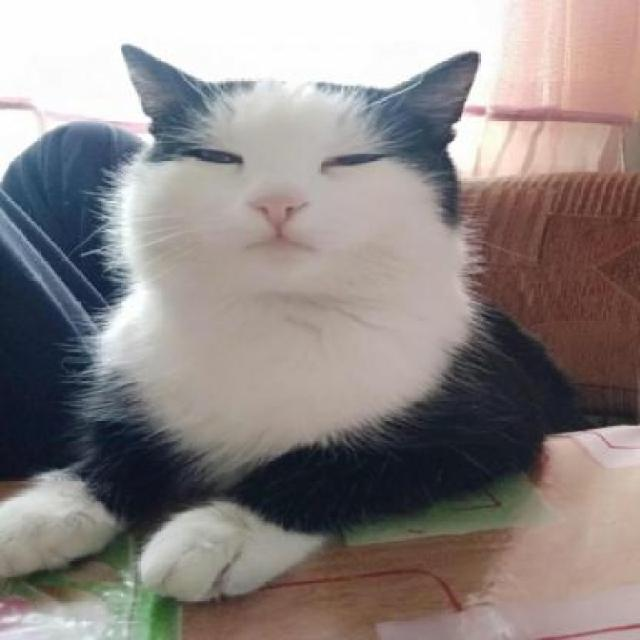cat: (46, 25, 589, 608)
